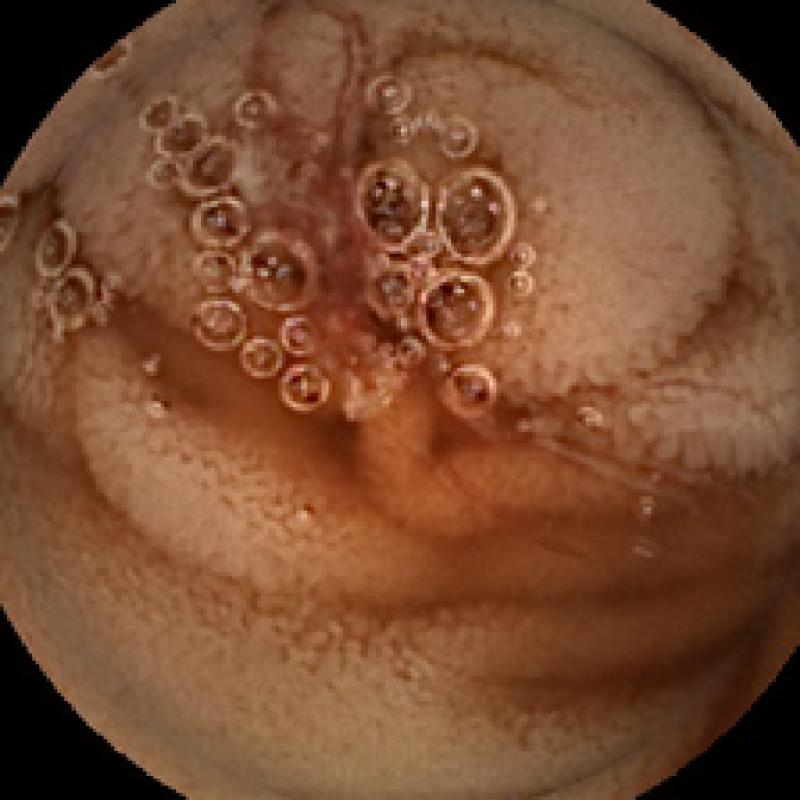bleeding: (275, 104, 454, 400)
